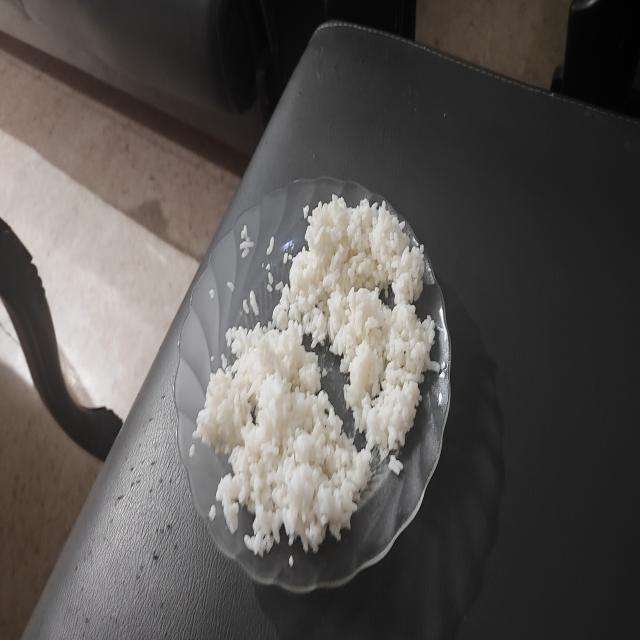nasi_putih: (272, 195, 440, 460), (193, 320, 371, 556)
